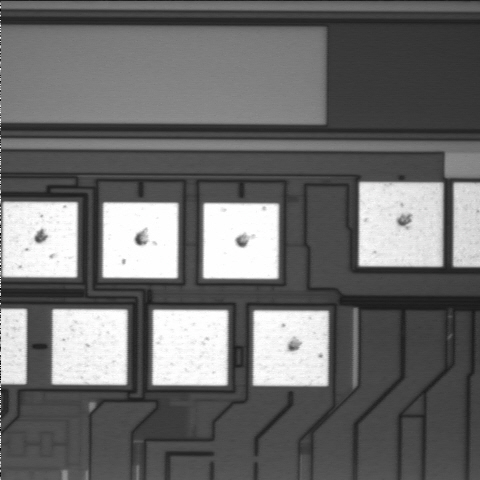pad: (359, 182, 443, 267), (2, 202, 78, 278), (102, 202, 178, 278), (203, 203, 279, 279), (152, 310, 228, 386), (253, 310, 329, 386), (52, 309, 127, 385)
